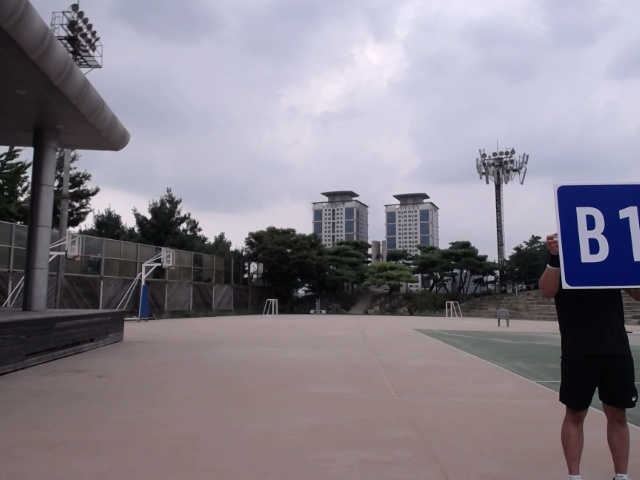delivery_b1: (555, 181, 638, 289)
